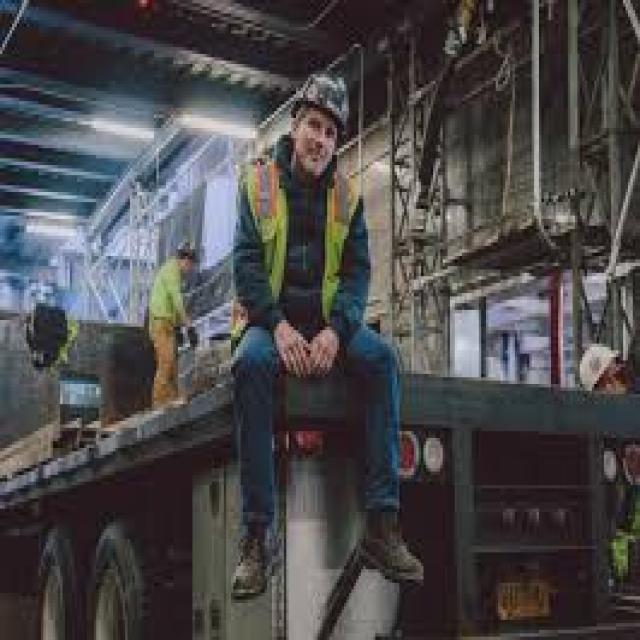Reflective-Jacket: (216, 155, 390, 381), (140, 253, 202, 347)
Safety-Helmet: (272, 57, 361, 142), (570, 324, 626, 395), (168, 226, 204, 266)
